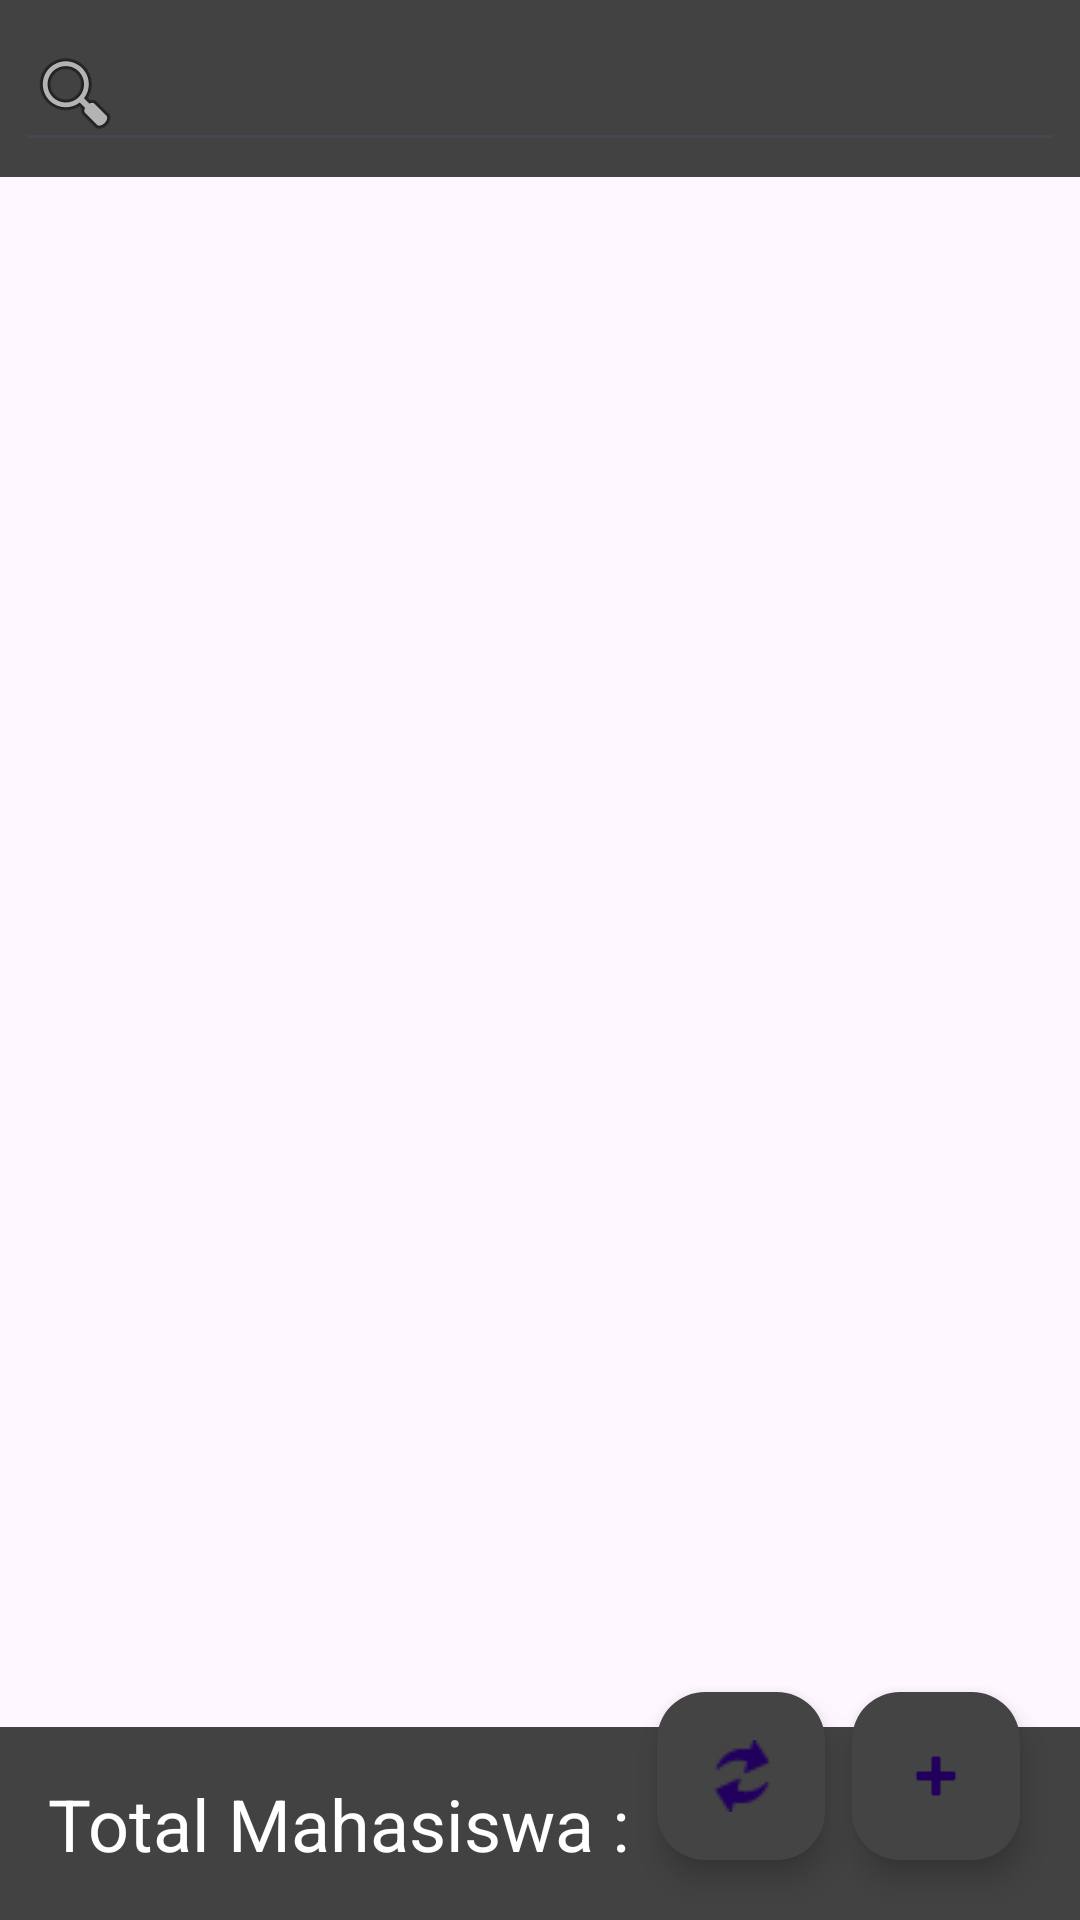

Icons on this 1080px×1920px Android screen, each with the point to tap as (x=x, y=y):
Refresh Button: (x=742, y=1776)
